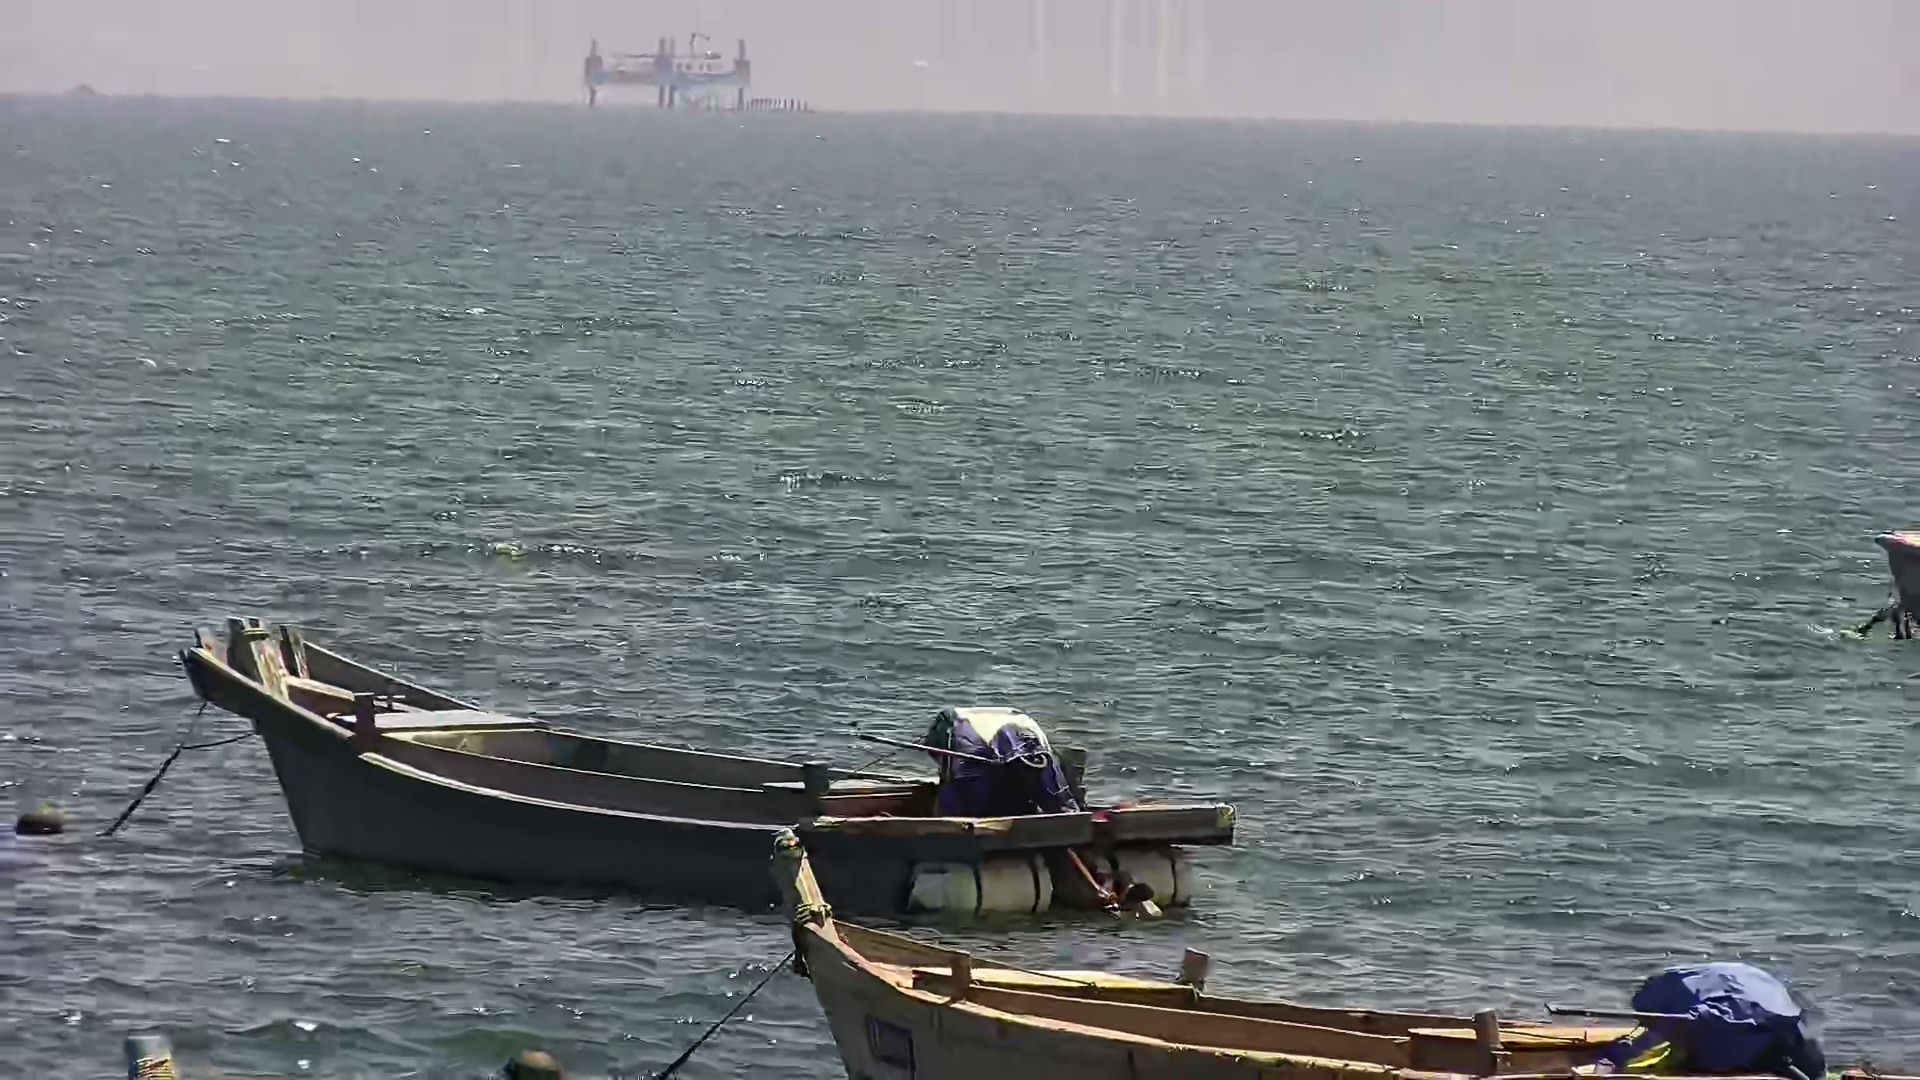boat: (160, 595, 1258, 939), (766, 833, 1909, 1079)
platform: (579, 33, 761, 115)
